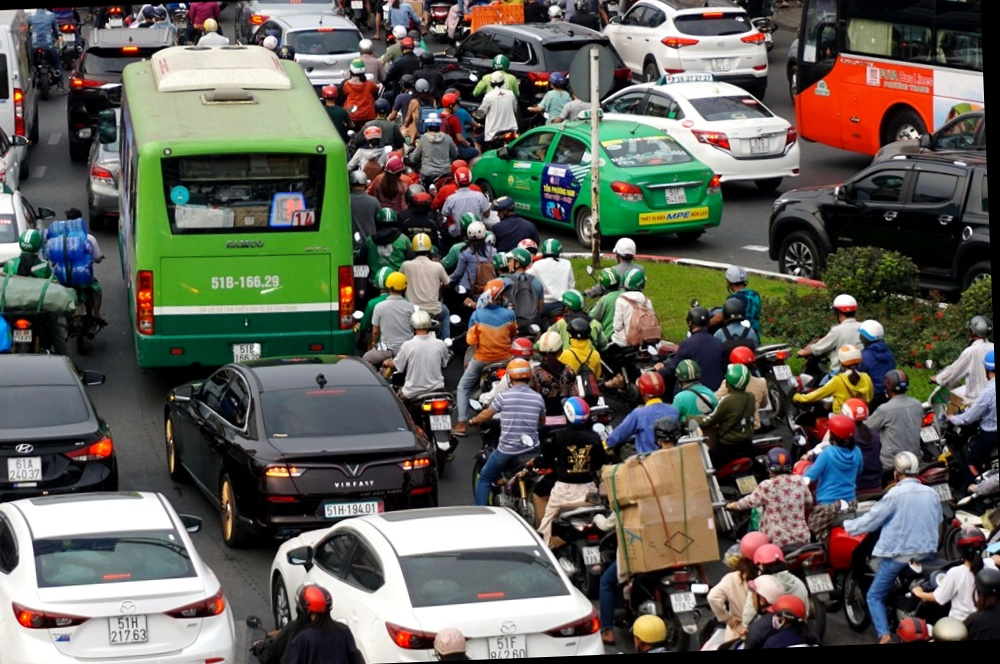Bien-so: (110, 615, 150, 649), (323, 500, 384, 519), (9, 452, 43, 482), (490, 635, 529, 658), (670, 592, 699, 616), (233, 340, 261, 363), (808, 575, 838, 596), (429, 410, 455, 431), (665, 184, 689, 205), (750, 136, 771, 158), (581, 544, 602, 565), (709, 56, 732, 74), (774, 364, 796, 381), (920, 424, 942, 440), (933, 484, 953, 500), (14, 328, 30, 344)
